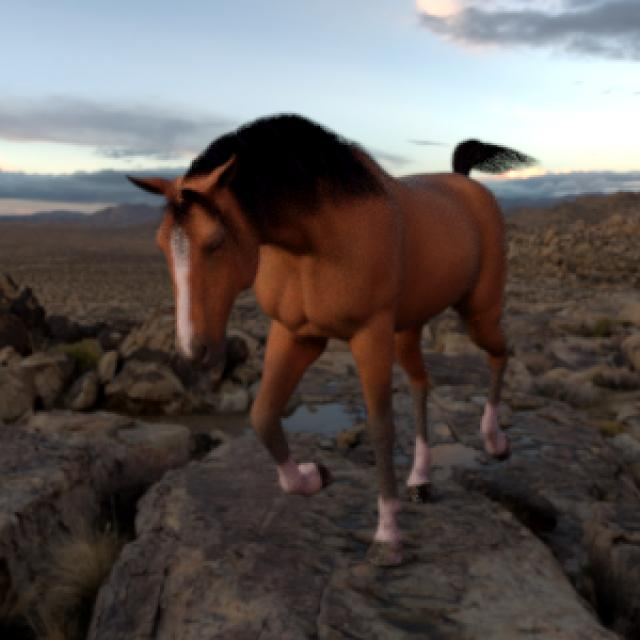horse: (131, 115, 530, 564)
